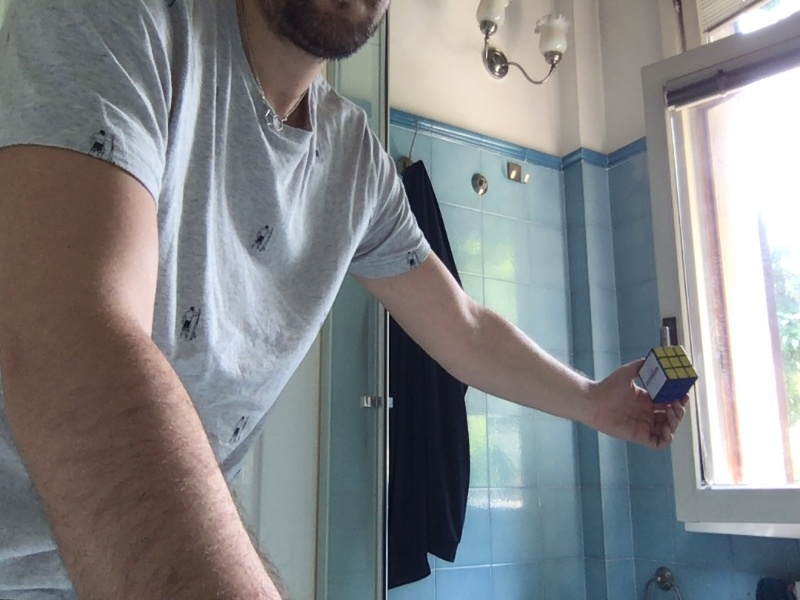rubik: (638, 346, 699, 404)
